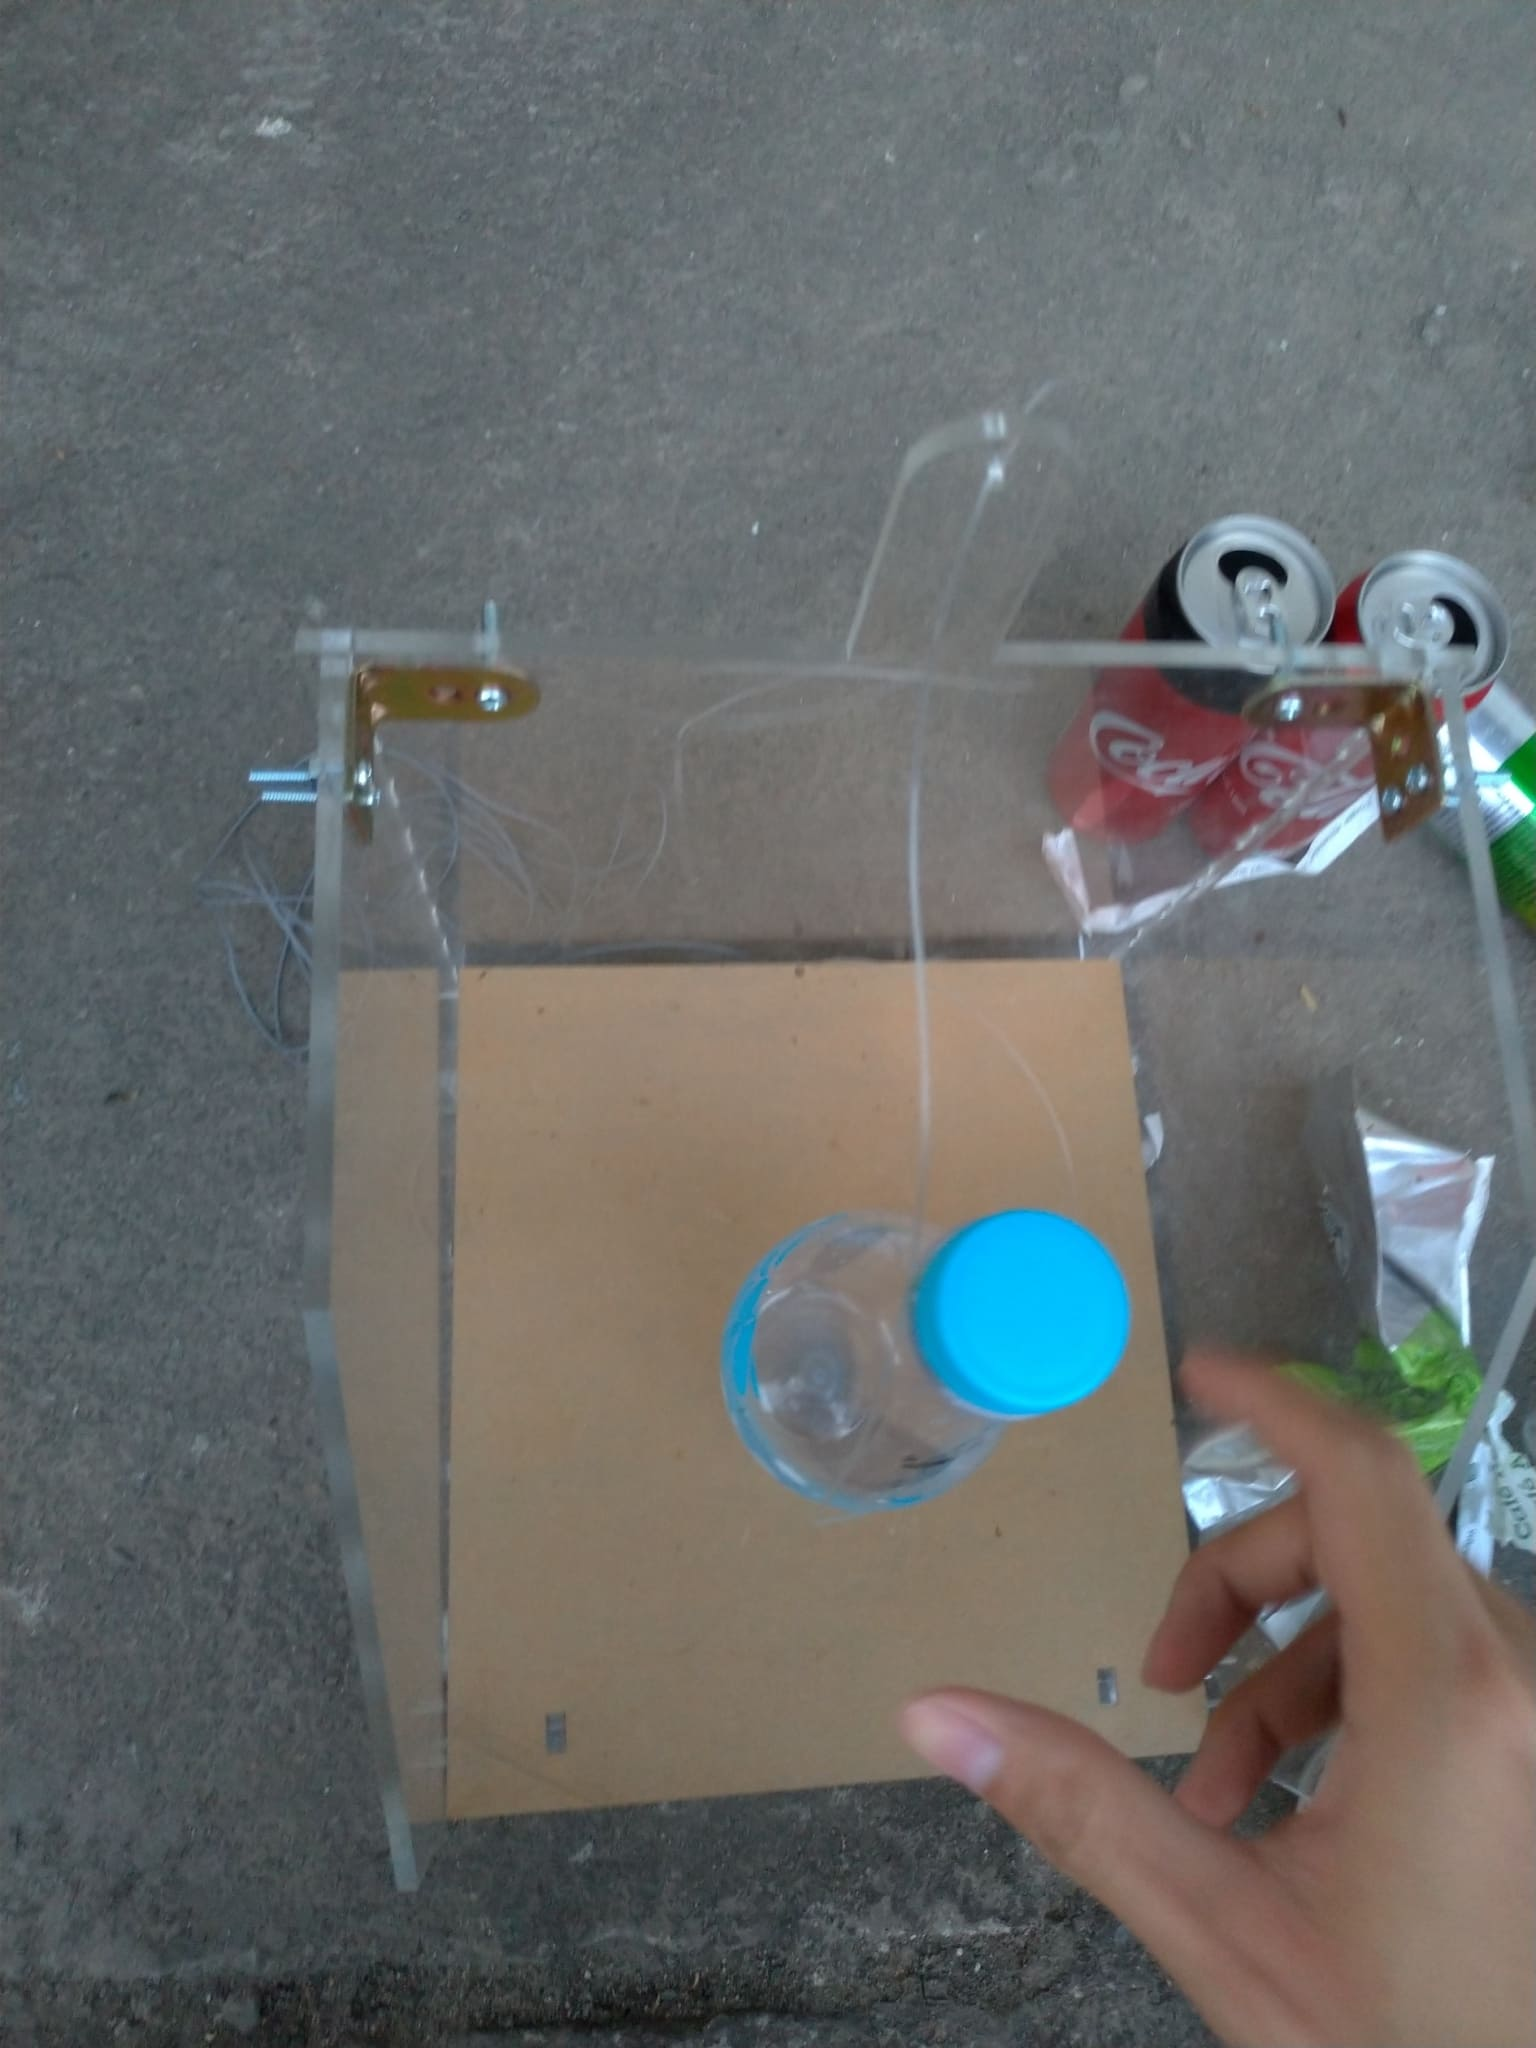AlCan: (1187, 547, 1497, 856), (1049, 514, 1329, 847), (1433, 685, 1536, 914)
Others: (1196, 1071, 1536, 1624), (1033, 789, 1404, 927)
PlasticBottle: (716, 1213, 1133, 1509)
